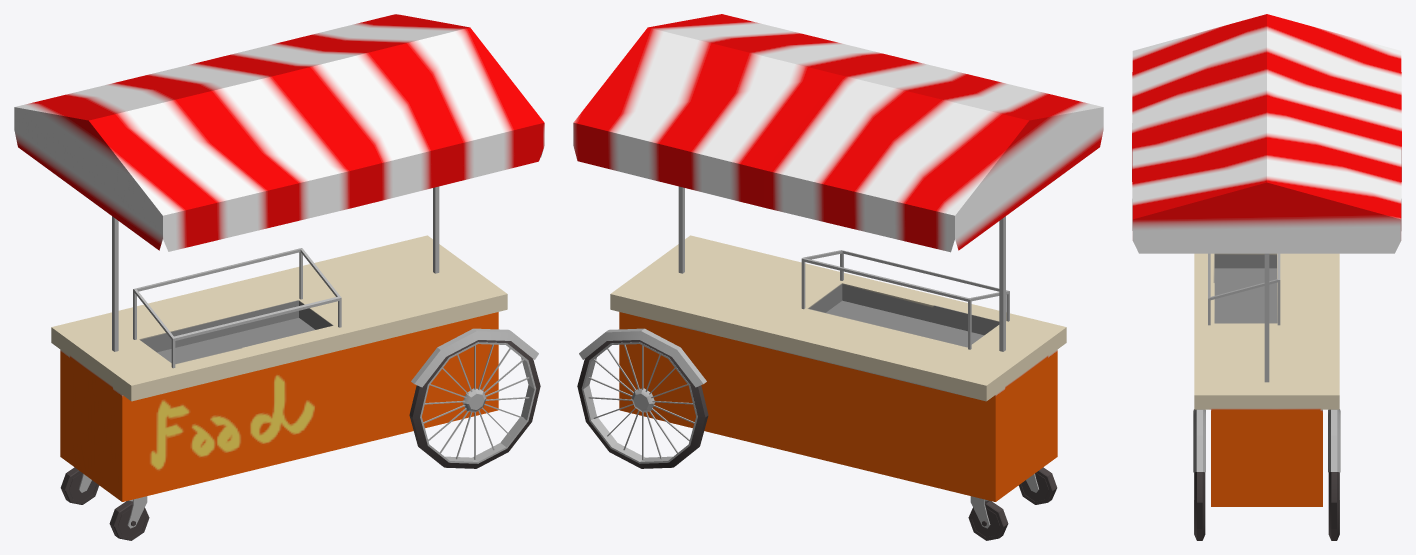
File: FoodStand.fbx
3 renders of one model, left to right at view 1: azimuth 30°, elevation 25°; view 2: azimuth 150°, elevation 25°; view 3: azimuth 270°, elevation 25°, orthographic. The views are drawn at different scales.
Parts seen in each view (by area): view 1: food_stand; view 2: food_stand; view 3: food_stand.
Boxes of the visible parts, x1,y1,x2,y2 form: food_stand: (14, 14, 544, 540); food_stand: (573, 14, 1103, 540); food_stand: (1132, 14, 1401, 540).
Size of the model in its own units: 0.1066 by 0.0995 by 0.0664.
